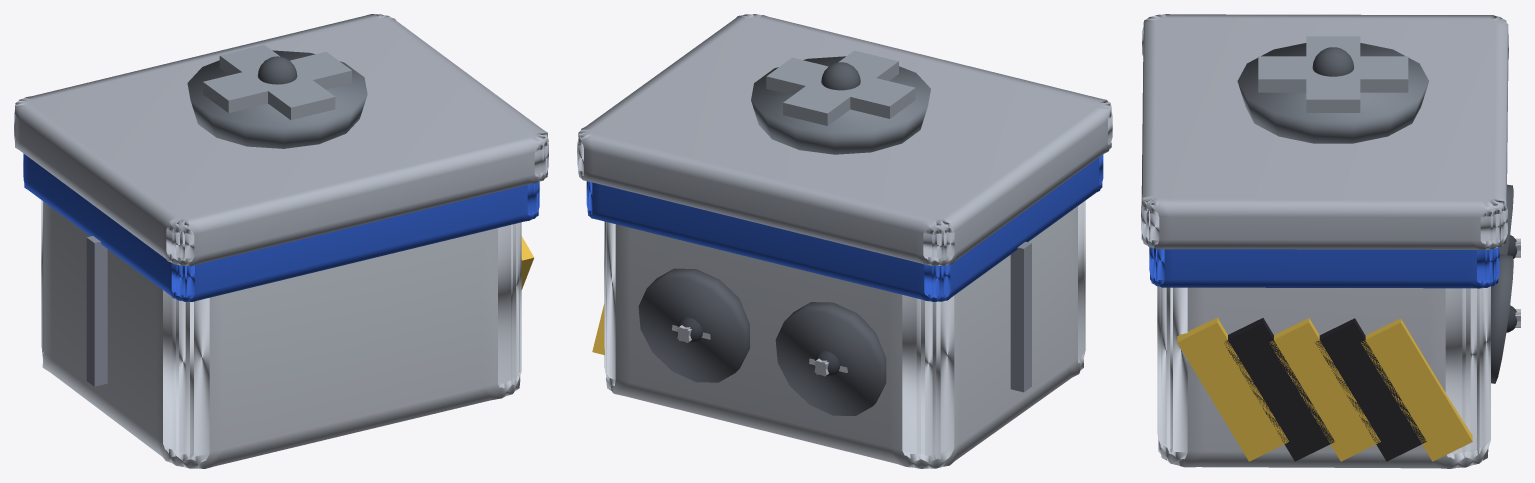
Rendered from b_supply_depot.glb.
3 views of the same model, side by side, from view 1: azimuth 30°, elevation 25°; view 2: azimuth 150°, elevation 25°; view 3: azimuth 270°, elevation 25° (orthographic). The views are drawn at different scales.
Visible parts, largest first — view 1: sd_hull.001, sd_crown.001, sd_belt.001, sd_ftop.001, sd_slitF.001, sd_fblade2.001, sd_fblade1.001, sd_fblade3.001, sd_fblade0.001, sd_fhub.001; view 2: sd_crown.001, sd_hull.001, sd_belt.001, sd_wrim1.001, sd_wrim-1.001, sd_ftop.001, sd_slitF.001, sd_fblade0.001, sd_fblade1.001, sd_fblade3.001, sd_fblade2.001, sd_fhub.001; view 3: sd_crown.001, sd_hull.001, sd_belt.001, sd_ftop.001, sd_hz4.001, sd_hz0.001, sd_hz2.001, sd_hz1.001, sd_hz3.001, sd_fblade3.001, sd_wrim1.001, sd_fblade1.001 (+3 smaller).
Part boxes in pixels (x1,y1,x2,y2): sd_hull.001: [41, 200, 521, 468]; sd_crown.001: [14, 14, 548, 266]; sd_belt.001: [23, 153, 539, 301]; sd_ftop.001: [187, 50, 367, 148]; sd_slitF.001: [86, 236, 107, 386]; sd_fblade2.001: [210, 57, 351, 112]; sd_fblade1.001: [219, 52, 320, 119]; sd_fblade3.001: [233, 44, 335, 116]; sd_fblade0.001: [203, 51, 343, 99]; sd_fhub.001: [257, 56, 297, 84]; sd_crown.001: [577, 14, 1112, 266]; sd_hull.001: [604, 200, 1085, 468]; sd_belt.001: [586, 155, 1103, 301]; sd_wrim1.001: [638, 268, 749, 382]; sd_wrim-1.001: [775, 302, 886, 415]; sd_ftop.001: [751, 56, 930, 154]; sd_slitF.001: [1010, 241, 1031, 392]; sd_fblade0.001: [766, 63, 907, 118]; sd_fblade1.001: [796, 56, 898, 125]; sd_fblade3.001: [783, 50, 883, 118]; sd_fblade2.001: [785, 57, 915, 112]; sd_fhub.001: [821, 62, 860, 90]; sd_crown.001: [1141, 14, 1508, 250]; sd_hull.001: [1157, 286, 1490, 468]; sd_belt.001: [1149, 247, 1499, 288]; sd_ftop.001: [1237, 43, 1428, 143]; sd_hz4.001: [1361, 318, 1472, 461]; sd_hz0.001: [1177, 317, 1288, 461]; sd_hz2.001: [1269, 318, 1380, 461]; sd_hz1.001: [1224, 318, 1334, 461]; sd_hz3.001: [1315, 318, 1426, 461]; sd_fblade3.001: [1258, 63, 1408, 92]; sd_wrim1.001: [1491, 254, 1513, 383]; sd_fblade1.001: [1258, 56, 1408, 72].
Bounding box in the file's own units: 1.1 × 0.88 × 0.9113.
